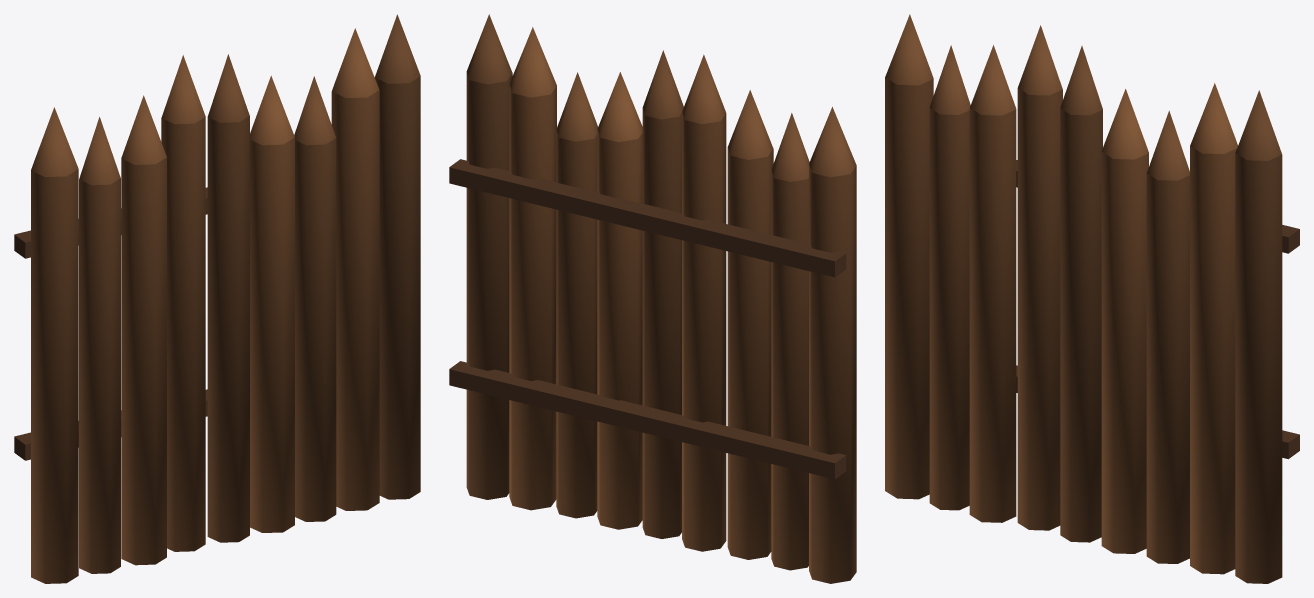
Rendered from palisade.glb.
3 renders of one model, left to right at view 1: azimuth 30°, elevation 25°; view 2: azimuth 150°, elevation 25°; view 3: azimuth 330°, elevation 25°, orthographic.
Visible parts, largest first — view 1: palisade; view 2: palisade; view 3: palisade.
Part boxes in pixels (x1=…): palisade: x1=14, y1=14, x2=420, y2=583; palisade: x1=449, y1=14, x2=856, y2=583; palisade: x1=885, y1=14, x2=1299, y2=583.
Size of the model in its own units: 2 by 2.42 by 0.3055.
